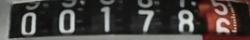digits: (137, 9, 156, 37), (210, 16, 231, 38), (177, 9, 194, 34), (58, 9, 75, 33), (21, 12, 37, 36), (99, 6, 110, 32)
